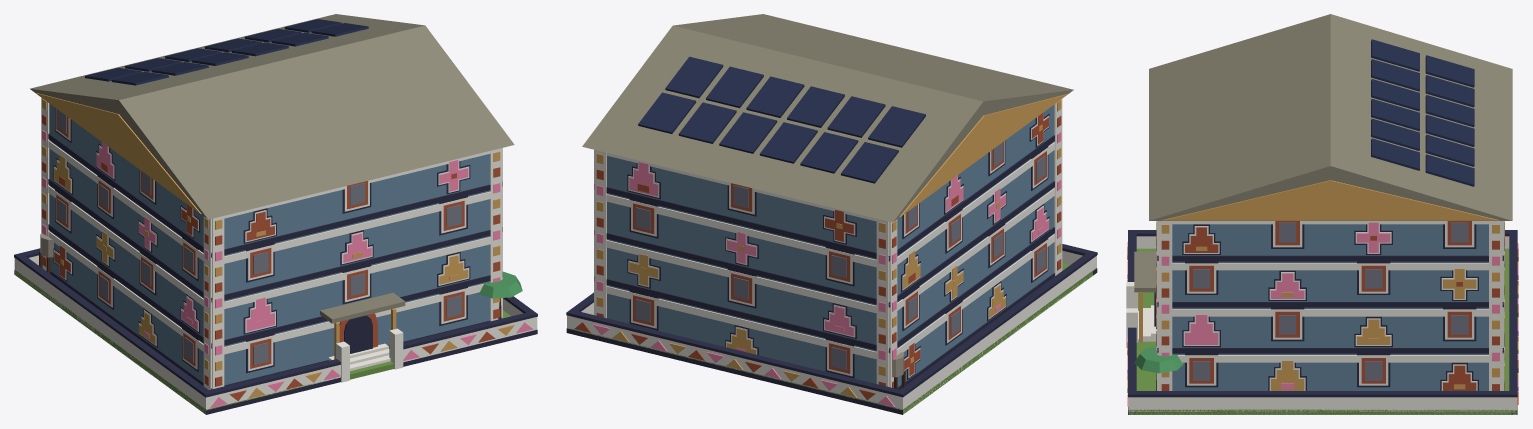
Rendered from house-2x2-4f-ndebele-a-solar.glb.
3 views of the same model, side by side, from view 1: azimuth 30°, elevation 25°; view 2: azimuth 150°, elevation 25°; view 3: azimuth 270°, elevation 25° (orthographic).
Visible parts, largest first — view 1: house-2x2-4f-ndebele-a-solar; view 2: house-2x2-4f-ndebele-a-solar; view 3: house-2x2-4f-ndebele-a-solar.
Boxes of the visible parts, box(x1,y1,x2,y2) form: house-2x2-4f-ndebele-a-solar: box(14, 14, 537, 414); house-2x2-4f-ndebele-a-solar: box(566, 14, 1097, 414); house-2x2-4f-ndebele-a-solar: box(1126, 14, 1518, 414).
Size of the model in its own units: 1.99 by 1.37 by 2.01.
1 material, 1 textured.
